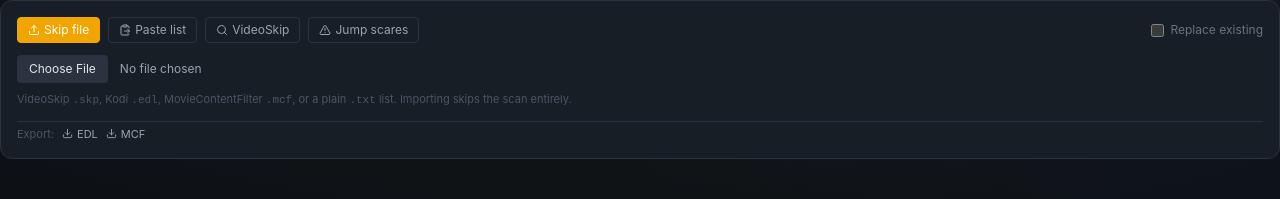
Test case: SkipFileImport › fetches jump scares from WhenJumpScare and reports the count
Click the button "Jump scares" at (364, 30), box [308,17,419,43]
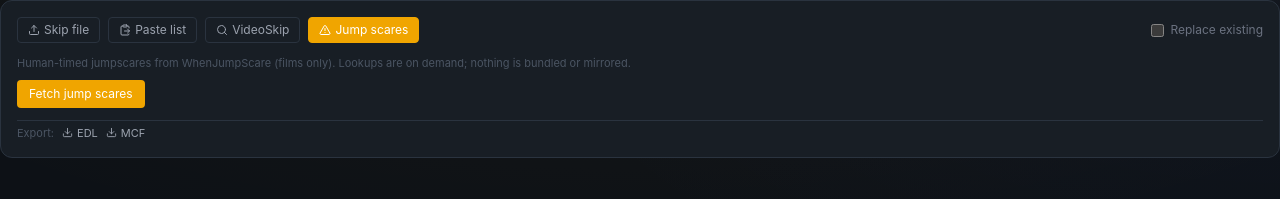
Click the button "Fetch jump scares" at (81, 94), box [17,80,145,108]
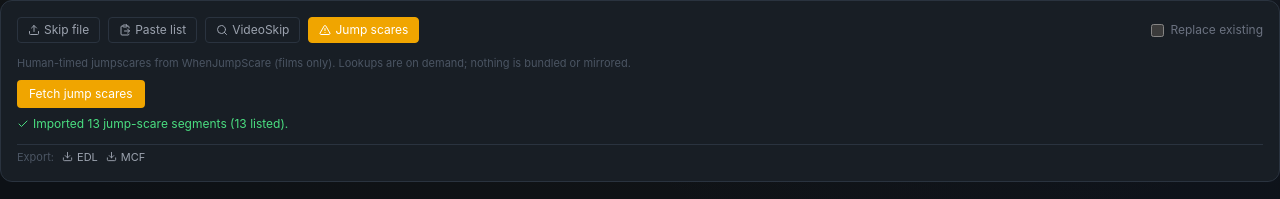
Expected: the text "Imported 13 jump-scare segments (13 listed)." is shown, [17,116,288,130]
